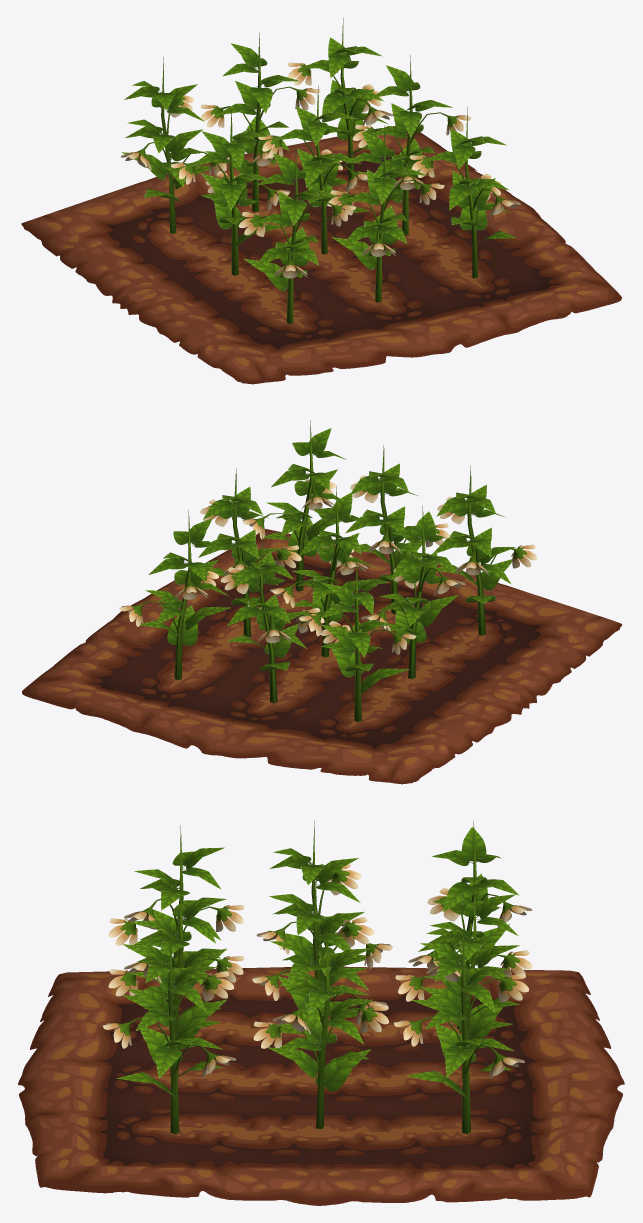
Rendered from BellPepper_Field_Orange_Lv2.FBX.
The picture shows the model from 3 angles, top to bottom: view 1: azimuth 30°, elevation 25°; view 2: azimuth 150°, elevation 25°; view 3: azimuth 270°, elevation 25°; orthographic projection. The views are drawn at different scales.
Visible parts, largest first — view 1: BellPepper_Field_Orange_Lv2; view 2: BellPepper_Field_Orange_Lv2; view 3: BellPepper_Field_Orange_Lv2.
Boxes of the visible parts, <box> form: BellPepper_Field_Orange_Lv2: <box>21,18,621,384</box>; BellPepper_Field_Orange_Lv2: <box>22,420,622,784</box>; BellPepper_Field_Orange_Lv2: <box>18,820,624,1205</box>.
Size of the model in its own units: 274 by 114 by 296.
